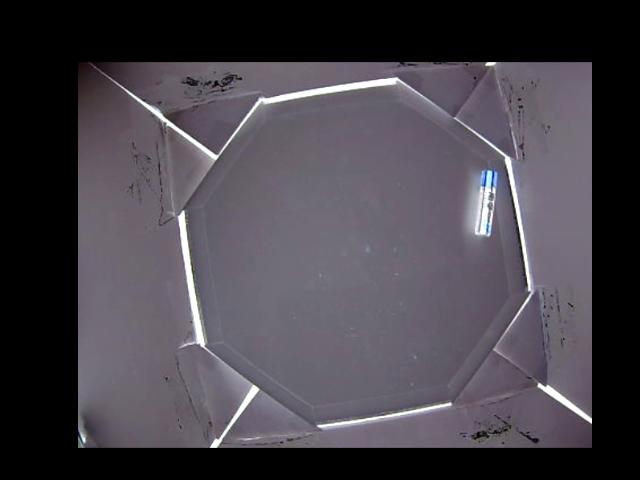Battery: (473, 169, 500, 238)
